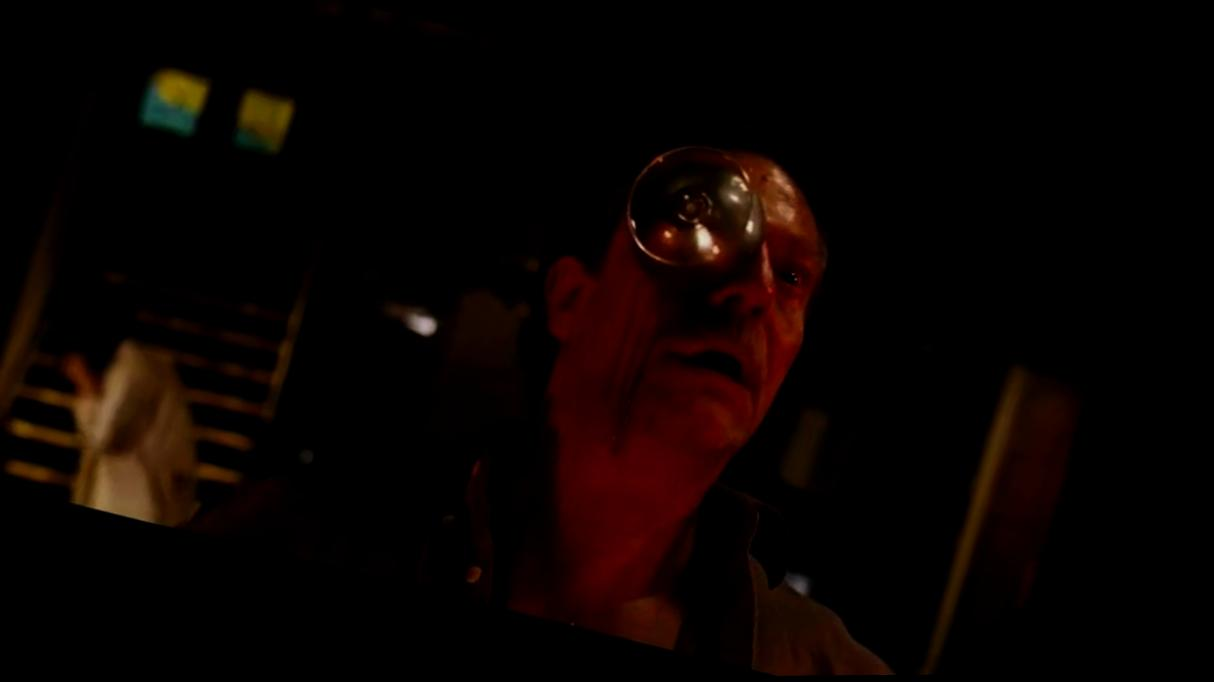Fire: (608, 276, 771, 455)
